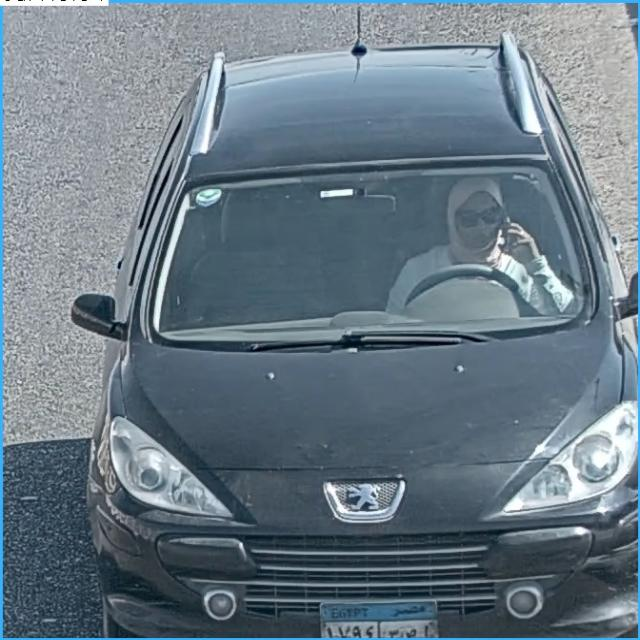windshield: (135, 167, 583, 348)
